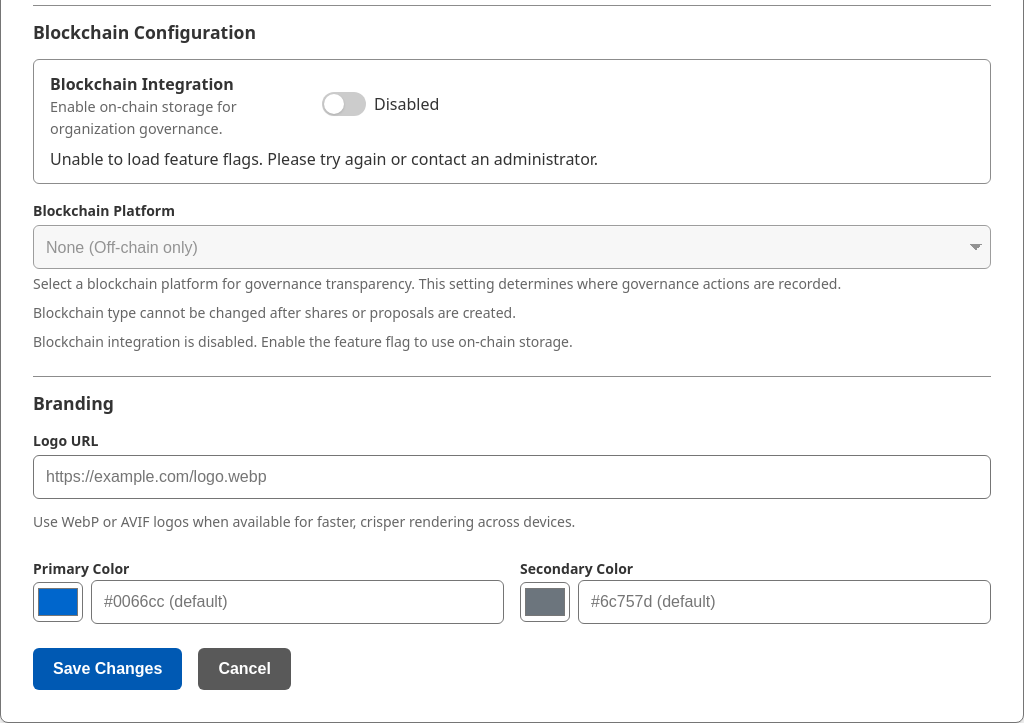
Test: AdminOrganizationEditPage › displays error message when update fails
(page scrolled)
Click the button "Save Changes". click: coordinates (108, 669)
box: x1=33 y1=648 x2=182 y2=690
(page scrolled)
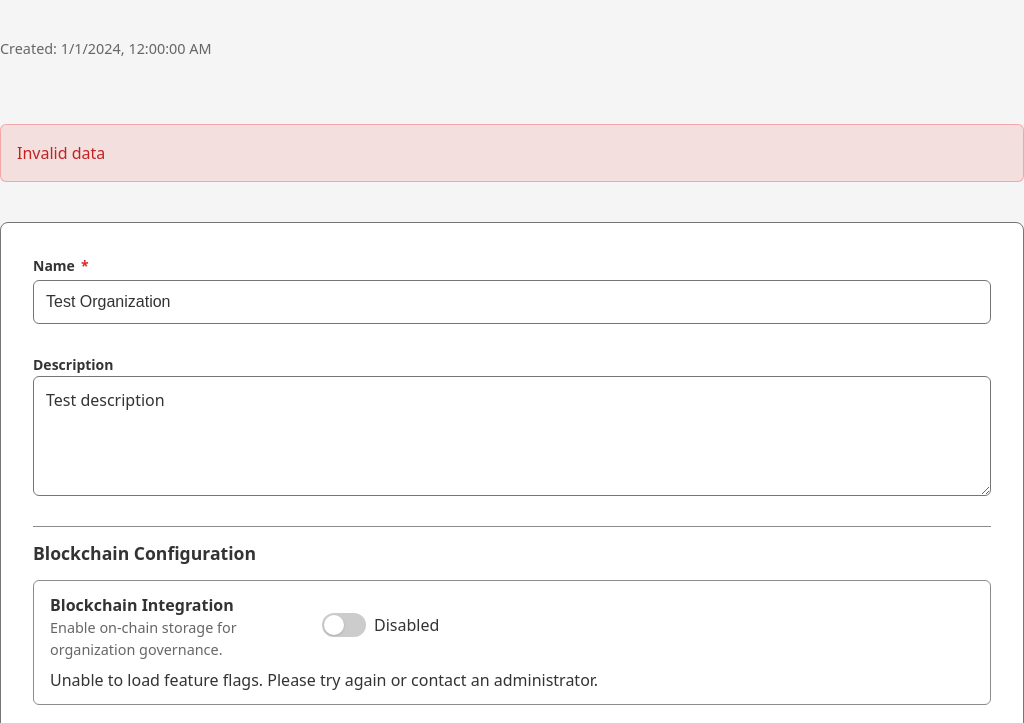
Result: the text "Invalid data" is shown at x1=0 y1=124 x2=1023 y2=182
